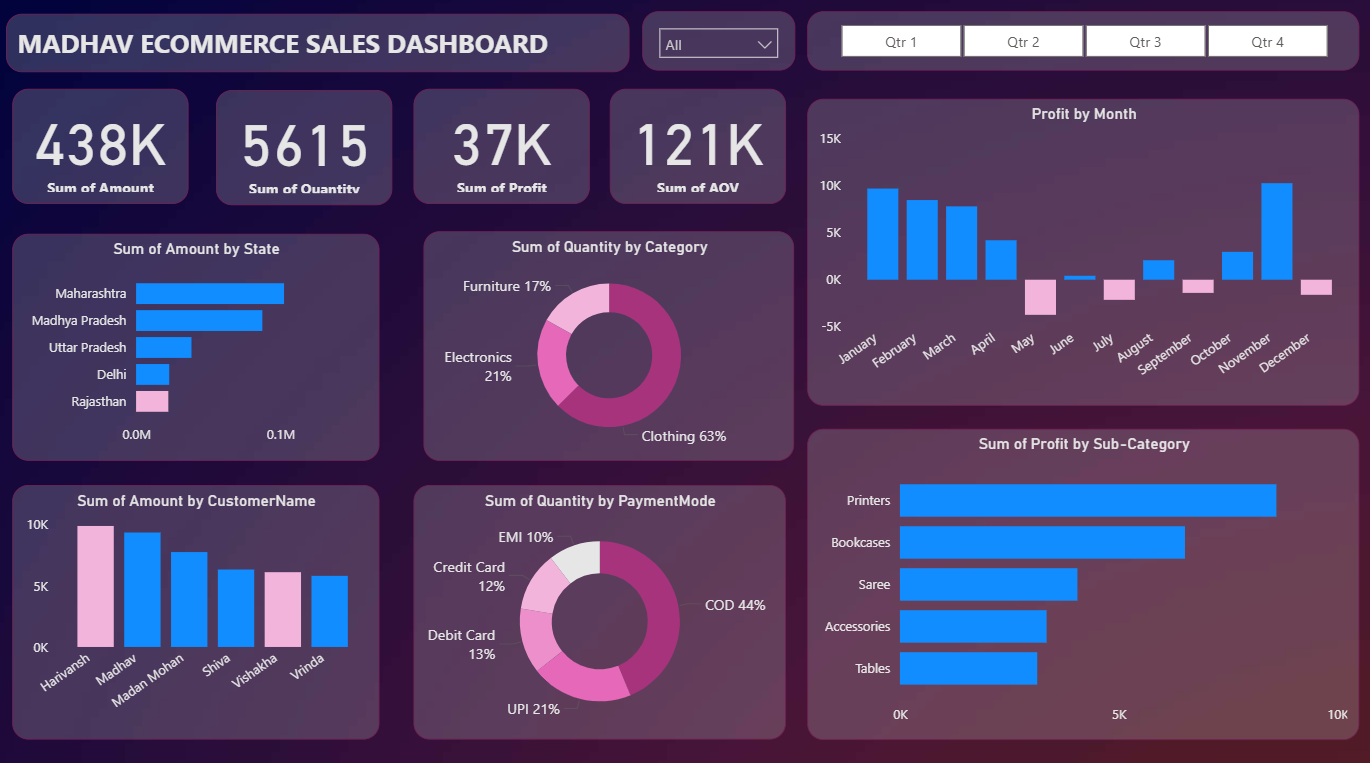

The dashboard page shown, as its layout file describes it:
{"tool":"powerbi","page":{"name":"Page 1","canvas":[1280,720],"ordinal":0},"visuals":[{"type":"textbox","box":[9.7,16.9,580.3,54.3],"z":0},{"type":"columnChart","title":"Profit by Month","fields":{"Category":["Orders.Order Date.Variation.Date Hierarchy.Month"],"Y":["Details.Profit"]},"box":[755.2,96.5,513.9,285.9],"z":1000},{"type":"barChart","fields":{"Category":["Details.Sub-Category"],"Y":["Details.Profit"]},"box":[755.2,403,513.9,289.5],"z":2000},{"type":"donutChart","fields":{"Category":["Details.Category"],"Y":["Details.Quantity"]},"box":[398.1,219.6,345,213.5],"z":3000},{"type":"donutChart","fields":{"Category":["Details.PaymentMode"],"Y":["Details.Quantity"]},"box":[388.5,456,346.2,236.5],"z":4000},{"type":"card","fields":{"Values":["Details.Amount"]},"box":[15.7,86.9,164.1,107.4],"z":5000},{"type":"card","fields":{"Values":["Details.Quantity"]},"box":[205.1,88.1,164.1,107.4],"z":6000},{"type":"card","fields":{"Values":["Details.Profit"]},"box":[388.5,86.9,164.1,107.4],"z":7000},{"type":"card","fields":{"Values":["Details.AOV"]},"box":[570.6,86.9,164.1,107.4],"z":8000},{"type":"barChart","fields":{"Category":["Orders.State"],"Y":["Details.Amount"]},"box":[15.7,222,341.4,211.1],"z":9000},{"type":"columnChart","fields":{"Category":["Orders.CustomerName"],"Y":["Details.Amount"]},"box":[15.7,456,341.4,236.5],"z":10000},{"type":"slicer","fields":{"Values":["Orders.Order Date.Variation.Date Hierarchy.Quarter"]},"box":[755.2,15.7,513.9,55.5],"z":11000},{"type":"slicer","fields":{"Values":["Orders.State"]},"box":[600.8,15.7,142.4,55.5],"z":12000}]}

Visuals, with their boxes in screenshot pixels (x1, y1, x2, y2), scaled from the page's 1280x720 canvas onto the 1370x763 screenshot:
textbox: bbox=[10, 18, 631, 75]
"Profit by Month" columnChart: bbox=[808, 102, 1358, 405]
barChart - Details.Sub-Category x Details.Profit: bbox=[808, 427, 1358, 734]
donutChart - Details.Category x Details.Quantity: bbox=[426, 233, 795, 459]
donutChart - Details.PaymentMode x Details.Quantity: bbox=[416, 483, 786, 734]
card - Details.Amount: bbox=[17, 92, 192, 206]
card - Details.Quantity: bbox=[220, 93, 395, 207]
card - Details.Profit: bbox=[416, 92, 591, 206]
card - Details.AOV: bbox=[611, 92, 786, 206]
barChart - Orders.State x Details.Amount: bbox=[17, 235, 382, 459]
columnChart - Orders.CustomerName x Details.Amount: bbox=[17, 483, 382, 734]
slicer - Orders.Order Date.Variation.Date Hierarchy.Quarter: bbox=[808, 17, 1358, 75]
slicer - Orders.State: bbox=[643, 17, 795, 75]
